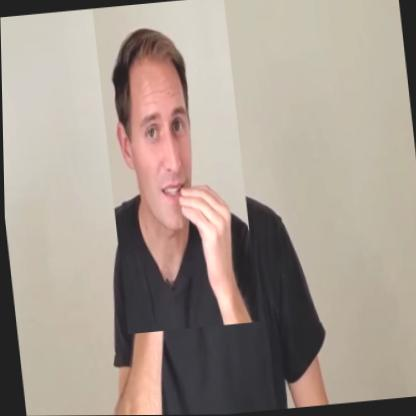Food: (92, 0, 258, 334)
